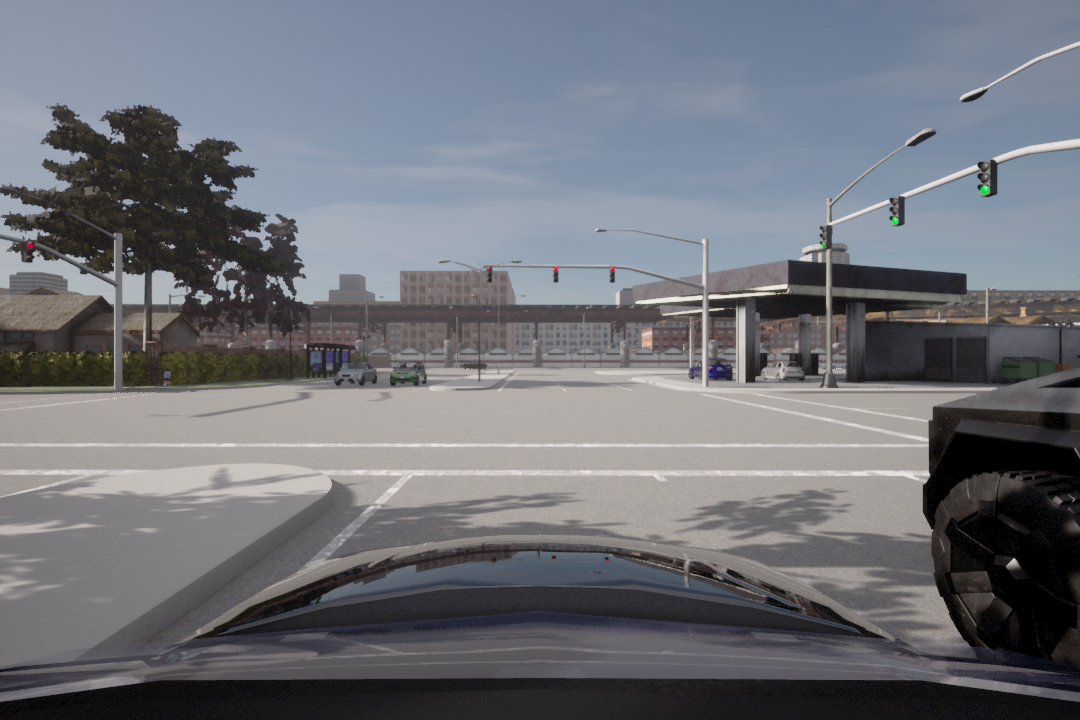TrafficLight: (976, 157, 997, 201), (889, 193, 904, 227), (817, 224, 832, 251), (606, 263, 617, 286), (551, 261, 560, 284), (484, 264, 494, 283)
